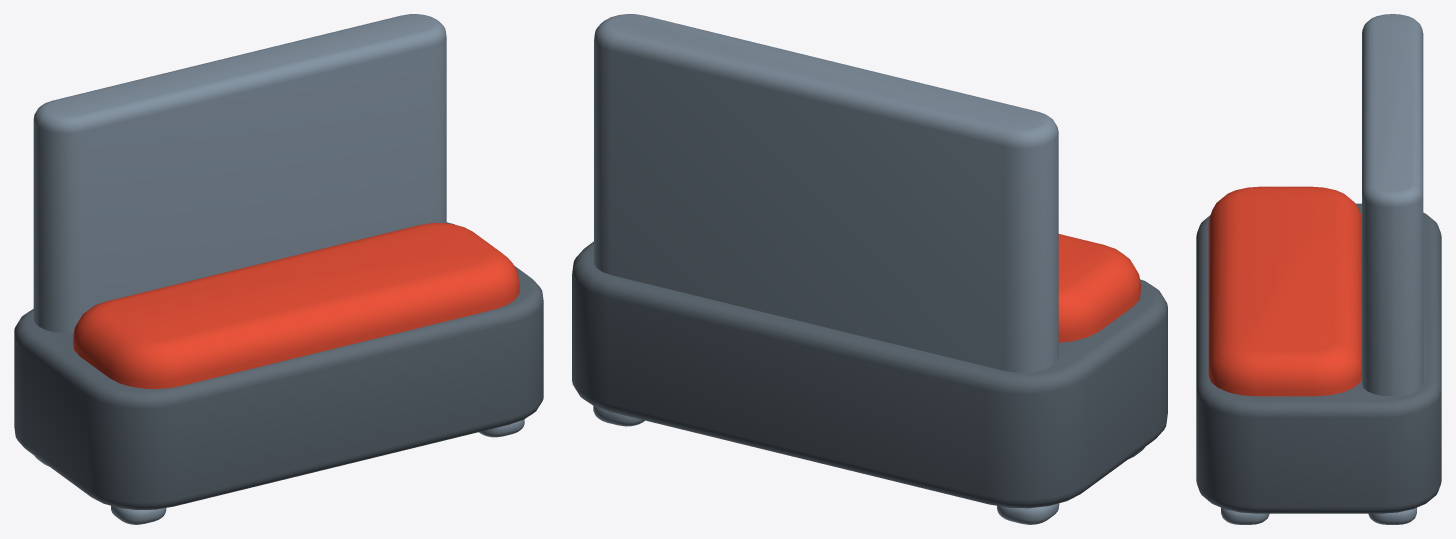
Rendered from Couch.fbx.
The picture shows the model from 3 angles, left to right: view 1: azimuth 30°, elevation 25°; view 2: azimuth 150°, elevation 25°; view 3: azimuth 270°, elevation 25°; orthographic projection. The views are drawn at different scales.
Parts seen in each view (by area): view 1: Couch; view 2: Couch; view 3: Couch.
Part boxes in pixels (bbox=[...]): Couch: bbox=[14, 14, 543, 524]; Couch: bbox=[572, 14, 1167, 524]; Couch: bbox=[1196, 14, 1441, 524].
Bounding box in the file's own units: 200 × 150 × 100.
